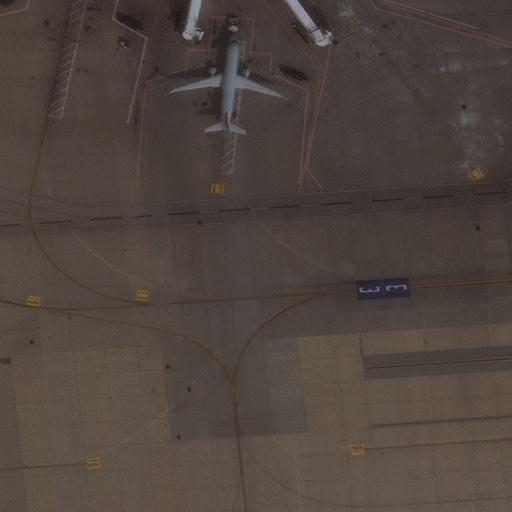Medium Civil Transport: (170, 32, 287, 131)
